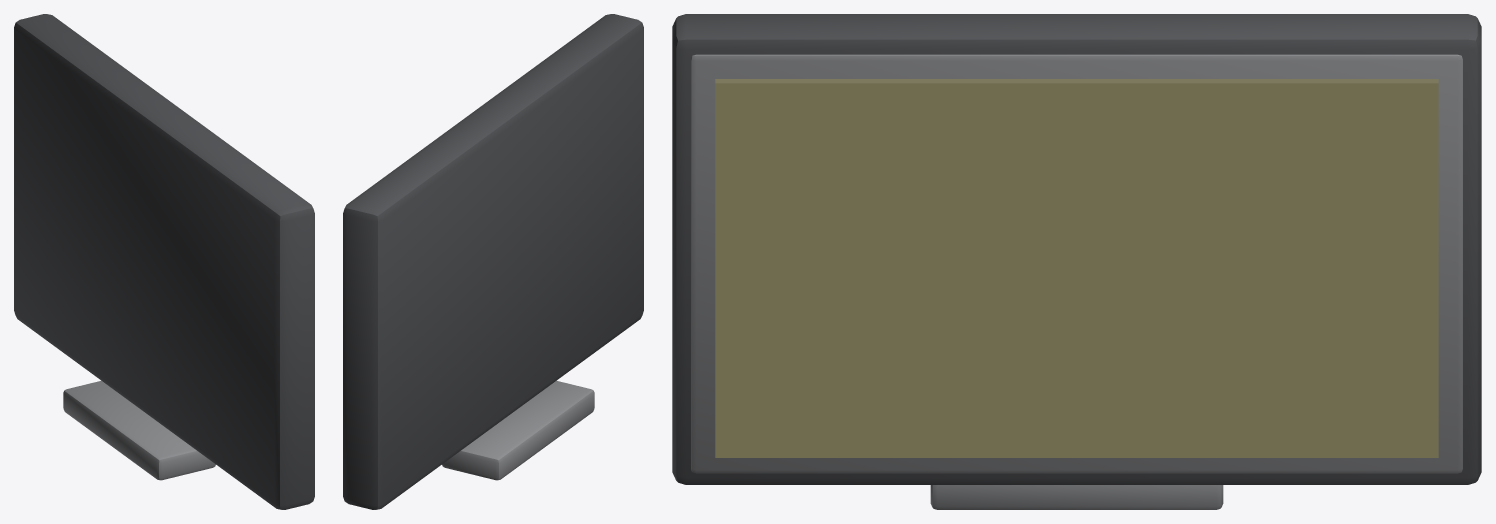
The model's file is acc_sensor_panel.glb.
3 renders of one model, left to right at view 1: azimuth 30°, elevation 25°; view 2: azimuth 150°, elevation 25°; view 3: azimuth 270°, elevation 25°, orthographic. The views are drawn at different scales.
Visible parts, largest first — view 1: Acc_SensorPanel; view 2: Acc_SensorPanel; view 3: LCD_SensorPanel, Acc_SensorPanel.
Boxes of the visible parts, bbox=[...] form: Acc_SensorPanel: bbox=[14, 14, 314, 509]; Acc_SensorPanel: bbox=[343, 14, 643, 509]; LCD_SensorPanel: bbox=[715, 79, 1438, 457]; Acc_SensorPanel: bbox=[672, 14, 1481, 509].
Size of the model in its own units: 0.168 by 0.6225 by 0.94.
